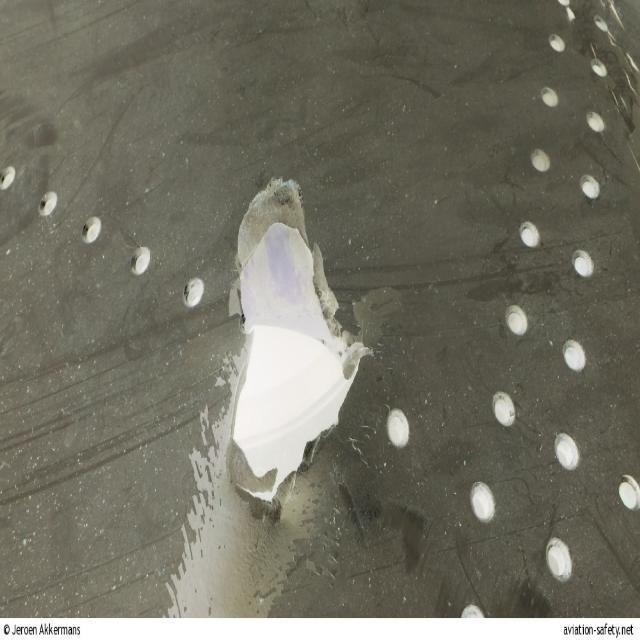crack: (221, 181, 372, 506)
